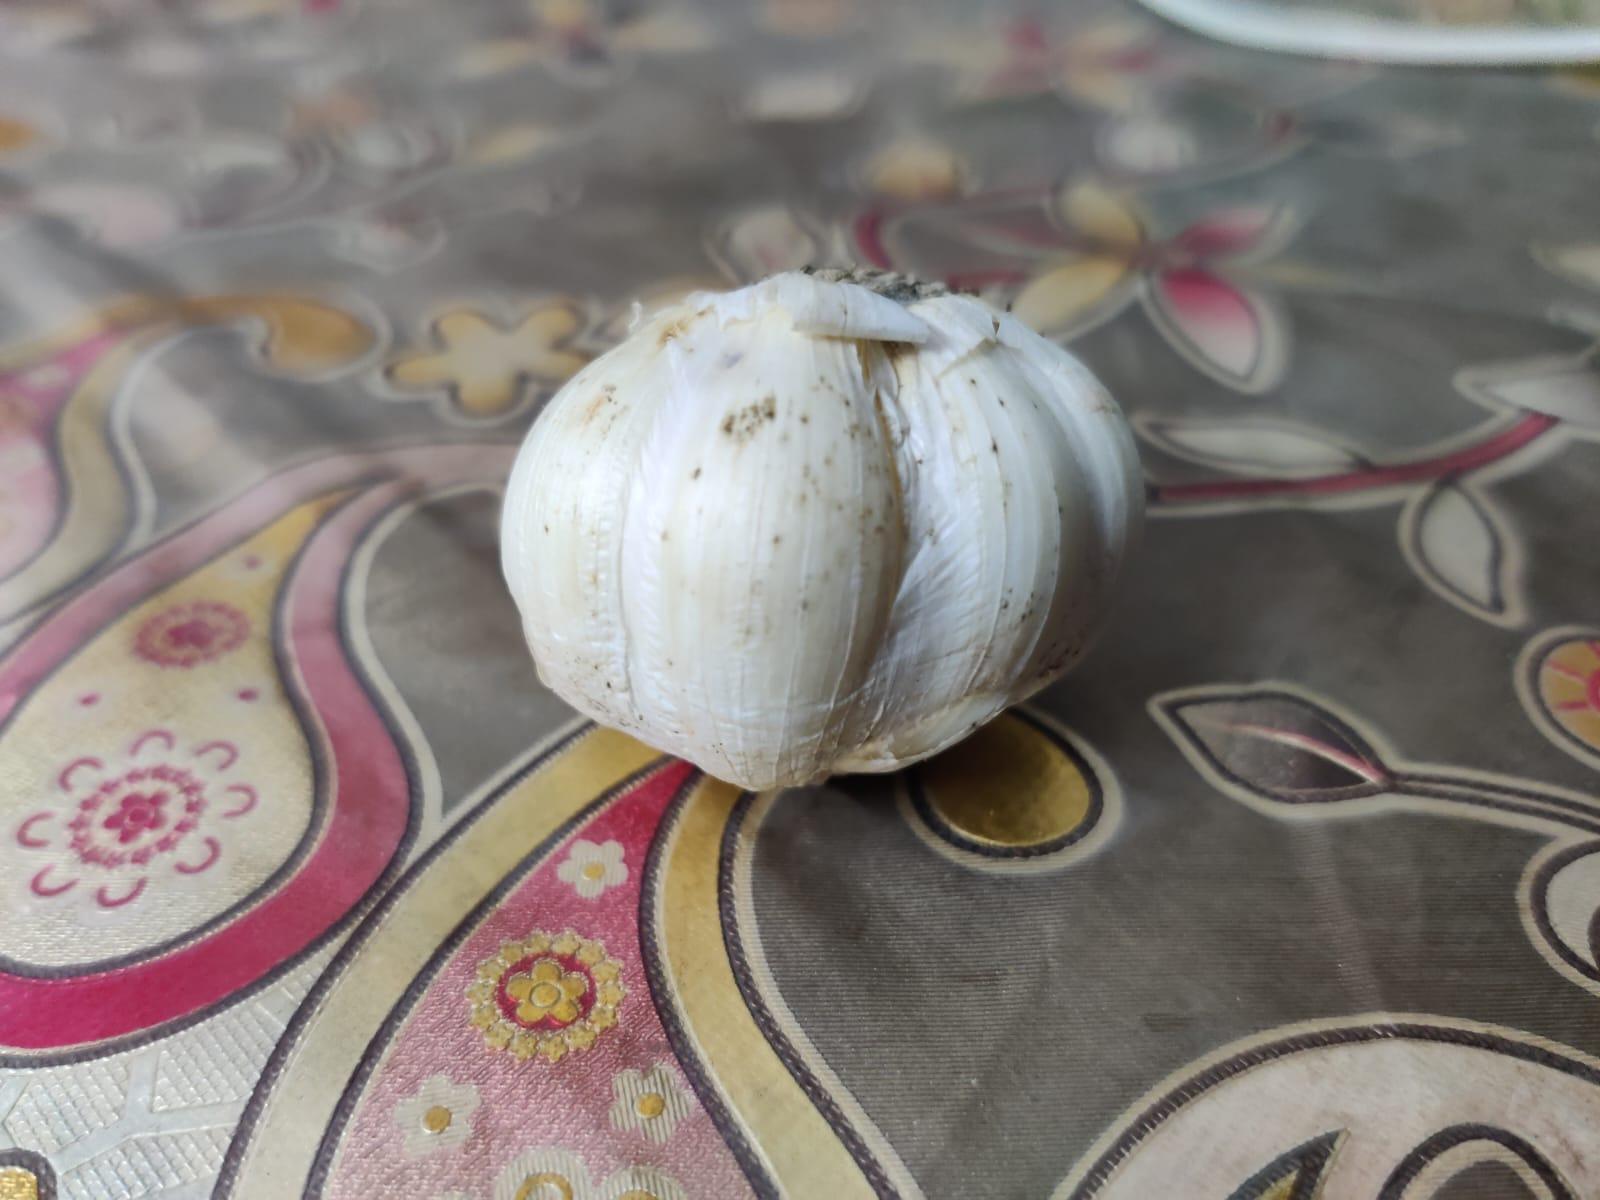non-mango: (494, 267, 1140, 783)
